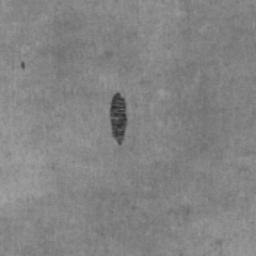Secondary rust skin: (110, 92, 126, 146)
